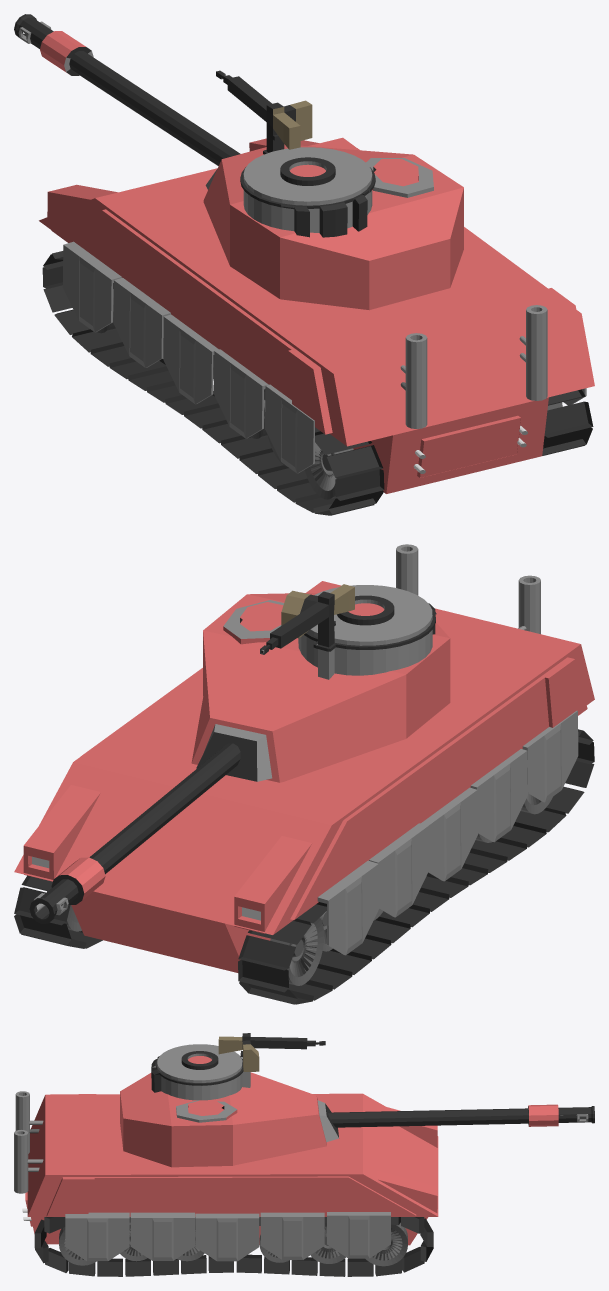
The model's file is tank v1 final.fbx.
The picture shows the model from 3 angles, top to bottom: view 1: azimuth 30°, elevation 25°; view 2: azimuth 150°, elevation 25°; view 3: azimuth 270°, elevation 25°; orthographic projection. The views are drawn at different scales.
Parts seen in each view (by area): view 1: Cube.003, Cube.002, Cube.004, Cube.001, Cube.005, Cylinder.009, Cylinder.014, Cylinder.001; view 2: Cube.003, Cube.002, Cube.004, Cube.001, Cube.005, Cylinder.001, Cylinder.009, Cylinder.014; view 3: Cube.003, Cube.002, Cube.000, Cube.005, Cylinder.002, Cylinder.014, Cylinder.009.
Boxes of the visible parts, <box> form: Cube.003: <box>39,137,594,493</box>; Cube.002: <box>14,14,463,310</box>; Cube.004: <box>62,241,314,473</box>; Cube.001: <box>42,251,384,515</box>; Cube.005: <box>542,389,593,455</box>; Cylinder.009: <box>405,333,427,428</box>; Cylinder.014: <box>526,305,547,400</box>; Cylinder.001: <box>97,289,353,499</box>; Cube.003: <box>14,581,594,972</box>; Cube.002: <box>29,584,450,923</box>; Cube.004: <box>317,710,578,955</box>; Cube.001: <box>238,729,594,1004</box>; Cube.005: <box>14,875,102,948</box>; Cylinder.001: <box>270,793,552,985</box>; Cylinder.009: <box>518,575,540,634</box>; Cylinder.014: <box>396,544,418,595</box>; Cube.003: <box>25,1093,438,1245</box>; Cube.002: <box>120,1033,594,1167</box>; Cube.000: <box>65,1212,390,1261</box>; Cube.005: <box>34,1217,433,1276</box>; Cylinder.002: <box>59,1222,407,1266</box>; Cylinder.014: <box>14,1130,28,1193</box>; Cylinder.009: <box>15,1091,29,1153</box>.
Size of the model in its own units: 681 by 663 by 1811.
